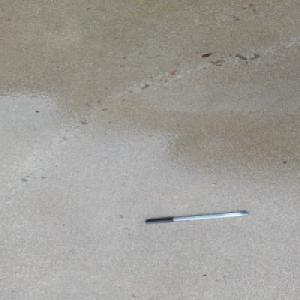Pen: (143, 211, 249, 224)
